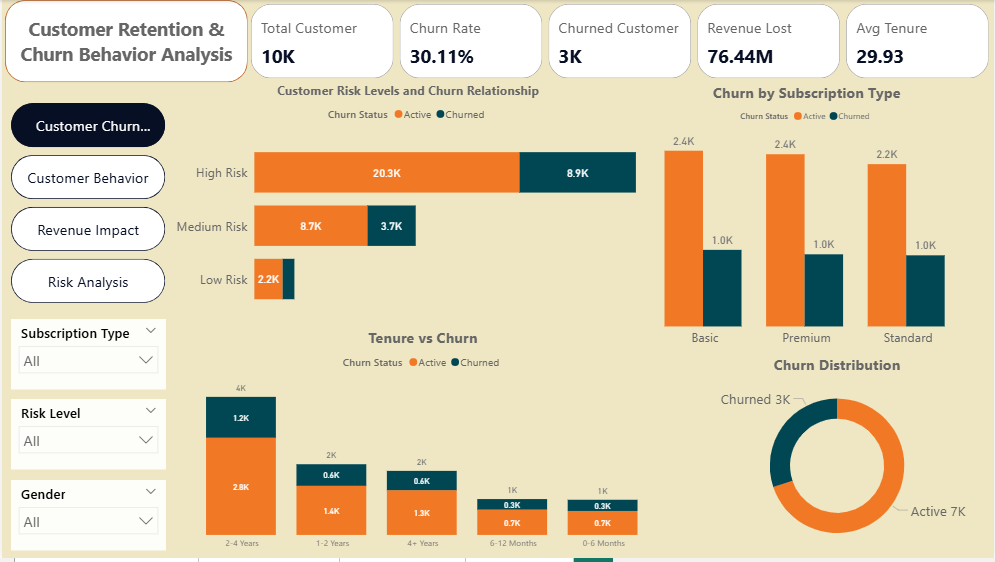

This screenshot's page, from the dashboard's own definition file:
{"tool":"powerbi","page":{"name":"Customer Churn Overview","canvas":[1280,720],"ordinal":0},"visuals":[{"type":"cardVisual","fields":{"Data":["Measure.Total Customer","Measure.Churn Rate","Measure.Churned Customer","Measure.Revenue Lost","Measure.Avg Tenure"]},"box":[316.1,0,963.8,106.3],"z":0},{"type":"shape","box":[4.3,0,313.2,106.3],"z":1000},{"type":"donutChart","title":"Churn Distribution","fields":{"Y":["Measure.Total Customer"],"Category":["customer_retention_dataset.Churn Status"]},"box":[874.5,456.4,405.4,263.6],"z":2000},{"type":"clusteredColumnChart","title":"Churn by Subscription Type","fields":{"Category":["customer_retention_dataset.subscription_type"],"Y":["Measure.Total Customer"],"Series":["customer_retention_dataset.Churn Status"]},"box":[798,106.3,481.9,350.1],"z":3000},{"type":"columnChart","title":"Tenure vs Churn","fields":{"Category":["customer_retention_dataset.Tenure Group"],"Y":["Measure.Total Customer"],"Series":["customer_retention_dataset.Churn Status"]},"box":[211.2,422.4,663.3,297.6],"z":4000},{"type":"barChart","title":"Customer Risk Levels and Churn Relationship","fields":{"Category":["customer_retention_dataset.Risk Level"],"Series":["customer_retention_dataset.Churn Status"],"Y":["Sum(customer_retention_dataset.support_tickets)"]},"box":[211.2,106.3,625,316.1],"z":5000},{"type":"pageNavigator","box":[11.3,133.2,199.8,260.8],"z":6000},{"type":"slicer","fields":{"Values":["customer_retention_dataset.gender"]},"box":[11.3,619.4,199.8,90.7],"z":7000},{"type":"slicer","fields":{"Values":["customer_retention_dataset.Risk Level"]},"box":[11.3,514.5,199.8,90.7],"z":8000},{"type":"slicer","fields":{"Values":["customer_retention_dataset.subscription_type"]},"box":[11.3,411,199.8,90.7],"z":9000}]}

Visuals, with their boxes in screenshot pixels (x1, y1, x2, y2), scaled from the page's 1280x720 canvas onto the 995x562 screenshot:
cardVisual - Measure.Total Customer x Measure.Churn Rate: region(246, 0, 994, 83)
shape: region(3, 0, 247, 83)
"Churn Distribution" donutChart: region(680, 356, 994, 561)
"Churn by Subscription Type" clusteredColumnChart: region(620, 83, 994, 356)
"Tenure vs Churn" columnChart: region(164, 330, 680, 561)
"Customer Risk Levels and Churn Relationship" barChart: region(164, 83, 650, 330)
pageNavigator: region(9, 104, 164, 308)
slicer - customer_retention_dataset.gender: region(9, 483, 164, 554)
slicer - customer_retention_dataset.Risk Level: region(9, 402, 164, 472)
slicer - customer_retention_dataset.subscription_type: region(9, 321, 164, 392)
